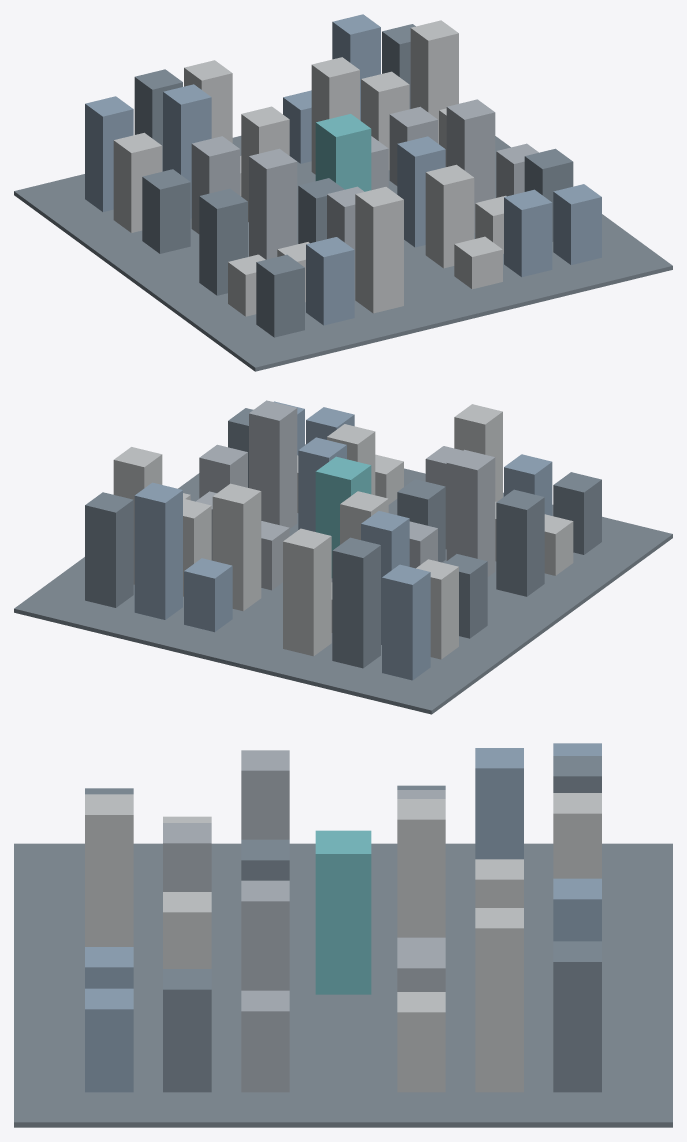
The model's file is mundo_sky_metaverso.glb.
3 renders of one model, top to bottom at view 1: azimuth 30°, elevation 25°; view 2: azimuth 150°, elevation 25°; view 3: azimuth 270°, elevation 25°, orthographic. The views are drawn at different scales.
Visible parts, largest first — view 1: 000_4e2d3058257446c395260a59fbdd3c82, 019_584f7285e666433bb461d1db44ff9bcf, 011_6d00304eb1c44674bd51a4c1f4f09f86, 024_137d9965fe2f4330aa3ffd56d13eccb0, 033_4b42126209aa4a8e9b9ebf6203edf3a3, 005_0543697b15a649c78d32b9279599274a, 029_37d5542469a44a1fb5445624257bc3fc, 013_628186eafb9e4b37932eb0afeb91c7d7, 002_718b296e11e6479fbdf284ea9ddcecc2, 031_2a781b63f7174b8e8687bdf7fcd2499f, 038_6794d852818f491db580e0c5f37b0921, 004_f4330bb717664c4d8560b877b3f1a1ca (+23 smaller); view 2: 000_4e2d3058257446c395260a59fbdd3c82, 026_c45e0ea97d74498783c6cff2a500e17b, 008_227aeec122e44fdf8e08347e5a208ae4, 014_d80354bc6eab45e8b741abcf306848c6, 029_37d5542469a44a1fb5445624257bc3fc, 011_6d00304eb1c44674bd51a4c1f4f09f86, 002_718b296e11e6479fbdf284ea9ddcecc2, 032_0a1dff5632484f0dbf1f3df96eddea10, 021_37b115169ff045a3a91750e258c9b475, 005_0543697b15a649c78d32b9279599274a, 020_36e40fae705042d8bd982d86807c92bb, 038_6794d852818f491db580e0c5f37b0921 (+20 smaller); view 3: 000_4e2d3058257446c395260a59fbdd3c82, 038_6794d852818f491db580e0c5f37b0921, 033_4b42126209aa4a8e9b9ebf6203edf3a3, 019_584f7285e666433bb461d1db44ff9bcf, 032_0a1dff5632484f0dbf1f3df96eddea10, 016_e07809d9c5204eb1855a748cbc5f2de0, 036_09e2495376574c1b9d857562e6214b18, 009_3769eaca461a4a32975a4b75760a86aa, 029_37d5542469a44a1fb5445624257bc3fc, 037_4cfd8f4ab5aa4fd09a0993b573f752e6, 035_d1d35af910354f50807f7c941608d684, 034_cbe919dc17ff42daadc9904d106ddc1e (+11 smaller).
Part boxes in pixels (box(x1,y1,x2,y2)): 000_4e2d3058257446c395260a59fbdd3c82: box(14, 136, 672, 371); 019_584f7285e666433bb461d1db44ff9bcf: box(355, 187, 403, 313); 011_6d00304eb1c44674bd51a4c1f4f09f86: box(249, 148, 297, 259); 024_137d9965fe2f4330aa3ffd56d13eccb0: box(425, 164, 474, 268); 033_4b42126209aa4a8e9b9ebf6203edf3a3: box(410, 20, 458, 143); 005_0543697b15a649c78d32b9279599274a: box(199, 188, 247, 295); 029_37d5542469a44a1fb5445624257bc3fc: box(446, 99, 495, 232); 013_628186eafb9e4b37932eb0afeb91c7d7: box(306, 237, 354, 325); 002_718b296e11e6479fbdf284ea9ddcecc2: box(85, 96, 133, 211); 031_2a781b63f7174b8e8687bdf7fcd2499f: box(504, 189, 552, 277); 038_6794d852818f491db580e0c5f37b0921: box(315, 114, 371, 191); 004_f4330bb717664c4d8560b877b3f1a1ca: box(142, 169, 190, 253); 000_4e2d3058257446c395260a59fbdd3c82: box(14, 444, 672, 714); 026_c45e0ea97d74498783c6cff2a500e17b: box(134, 482, 182, 619); 008_227aeec122e44fdf8e08347e5a208ae4: box(332, 537, 380, 668); 014_d80354bc6eab45e8b741abcf306848c6: box(283, 528, 331, 656); 029_37d5542469a44a1fb5445624257bc3fc: box(249, 400, 297, 528); 011_6d00304eb1c44674bd51a4c1f4f09f86: box(446, 449, 495, 576); 002_718b296e11e6479fbdf284ea9ddcecc2: box(382, 564, 430, 680); 032_0a1dff5632484f0dbf1f3df96eddea10: box(85, 492, 133, 607); 021_37b115169ff045a3a91750e258c9b475: box(212, 483, 261, 611); 005_0543697b15a649c78d32b9279599274a: box(496, 489, 544, 596); 020_36e40fae705042d8bd982d86807c92bb: box(184, 558, 232, 632); 038_6794d852818f491db580e0c5f37b0921: box(315, 456, 371, 577); 000_4e2d3058257446c395260a59fbdd3c82: box(14, 843, 672, 1127); 038_6794d852818f491db580e0c5f37b0921: box(315, 830, 371, 994); 033_4b42126209aa4a8e9b9ebf6203edf3a3: box(475, 908, 523, 1092); 019_584f7285e666433bb461d1db44ff9bcf: box(85, 794, 133, 946); 032_0a1dff5632484f0dbf1f3df96eddea10: box(553, 941, 601, 1092); 016_e07809d9c5204eb1855a748cbc5f2de0: box(397, 799, 445, 937); 036_09e2495376574c1b9d857562e6214b18: box(163, 969, 211, 1092); 009_3769eaca461a4a32975a4b75760a86aa: box(475, 748, 523, 859); 029_37d5542469a44a1fb5445624257bc3fc: box(241, 880, 289, 990); 037_4cfd8f4ab5aa4fd09a0993b573f752e6: box(85, 988, 133, 1092); 035_d1d35af910354f50807f7c941608d684: box(241, 990, 289, 1092); 034_cbe919dc17ff42daadc9904d106ddc1e: box(397, 992, 445, 1092).
Bounding box in the file's own units: 38 × 10.77 × 38.
